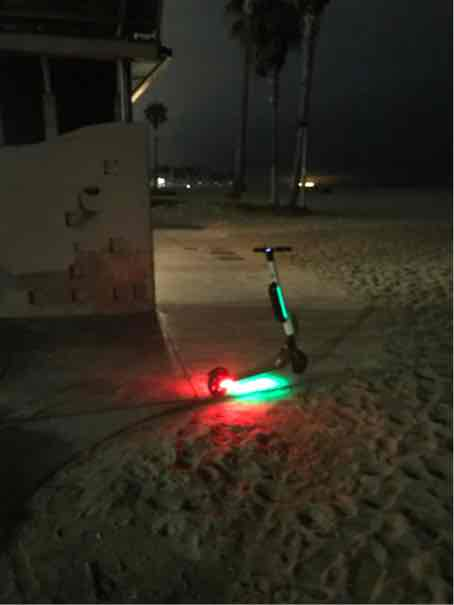scooter: (188, 243, 314, 400)
